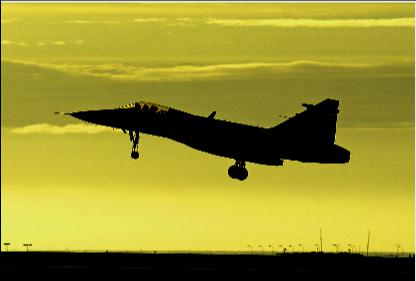JAS39: (52, 98, 350, 180)
